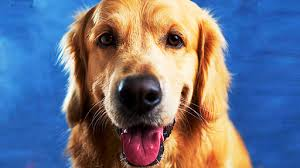dog: (42, 1, 271, 168)
